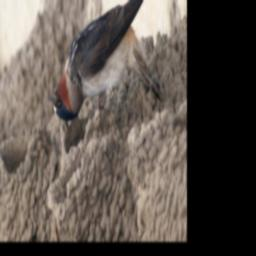Swallow: (46, 0, 165, 123)
